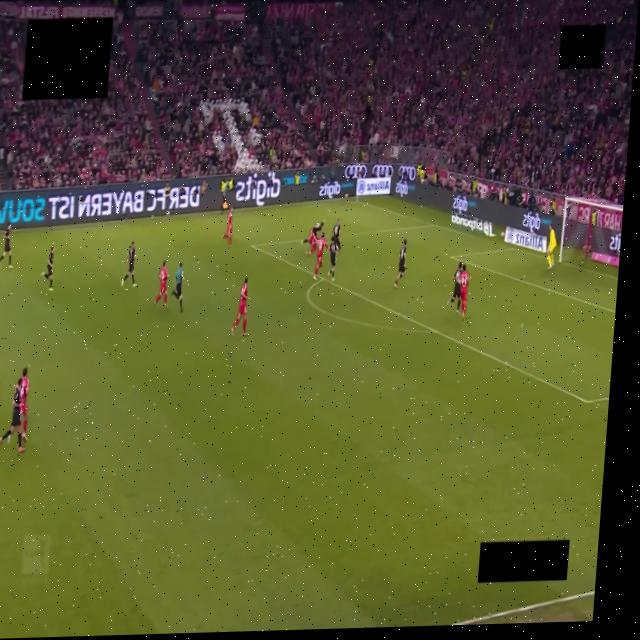player: (0, 379, 24, 452), (231, 278, 247, 335), (447, 262, 461, 313), (121, 242, 136, 287), (303, 222, 323, 255), (20, 367, 29, 440), (394, 239, 406, 288), (41, 246, 54, 291), (154, 261, 167, 305), (314, 233, 326, 280), (0, 224, 11, 269), (459, 265, 468, 320), (328, 238, 339, 281), (546, 225, 556, 269), (223, 208, 232, 247), (331, 219, 340, 249)
referee: (172, 263, 184, 312)
